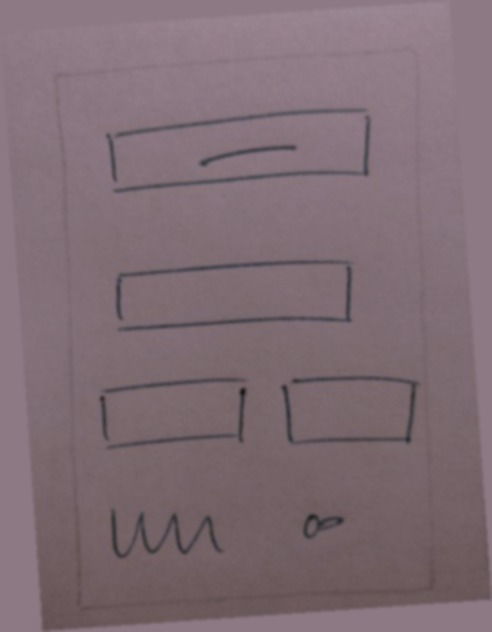button: (95, 100, 381, 202)
switch: (283, 496, 354, 553)
text: (97, 486, 233, 583)
text_input: (103, 244, 365, 352), (268, 357, 429, 462), (91, 360, 256, 460)
